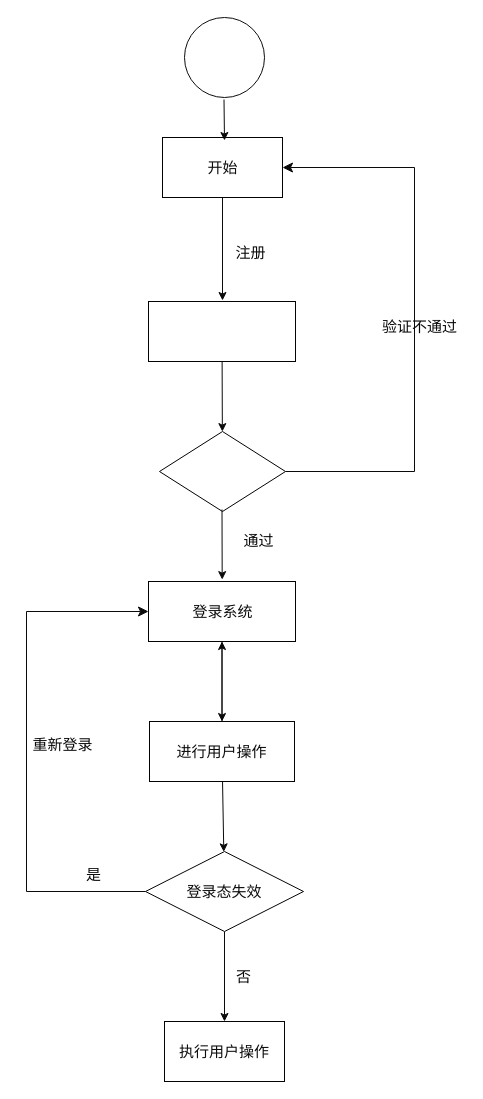
This 483x1099 diagram has some shape labels left out. The centre of each missing label's shape, as x and y in pixels:
填用户名和密码: (222,331)
校验: (222,471)
用户: (224,57)
